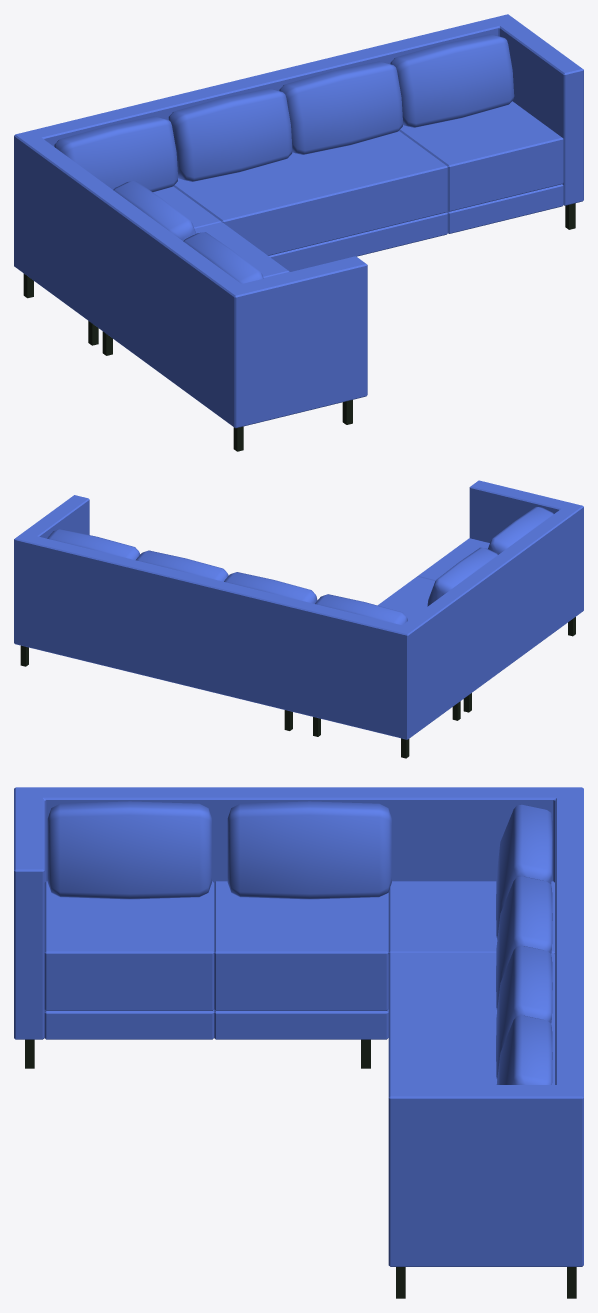
The model's file is sofa.fbx.
The picture shows the model from 3 angles, top to bottom: view 1: azimuth 30°, elevation 25°; view 2: azimuth 150°, elevation 25°; view 3: azimuth 270°, elevation 25°; orthographic projection. The views are drawn at different scales.
Visible parts, largest first — view 1: Prop_Sofa_06_A; view 2: Prop_Sofa_06_A; view 3: Prop_Sofa_06_A.
Part boxes in pixels (x1=…): Prop_Sofa_06_A: x1=14, y1=14, x2=583, y2=451; Prop_Sofa_06_A: x1=14, y1=480, x2=583, y2=758; Prop_Sofa_06_A: x1=14, y1=787, x2=583, y2=1298.
Size of the model in its own units: 284 by 220 by 89.51.
